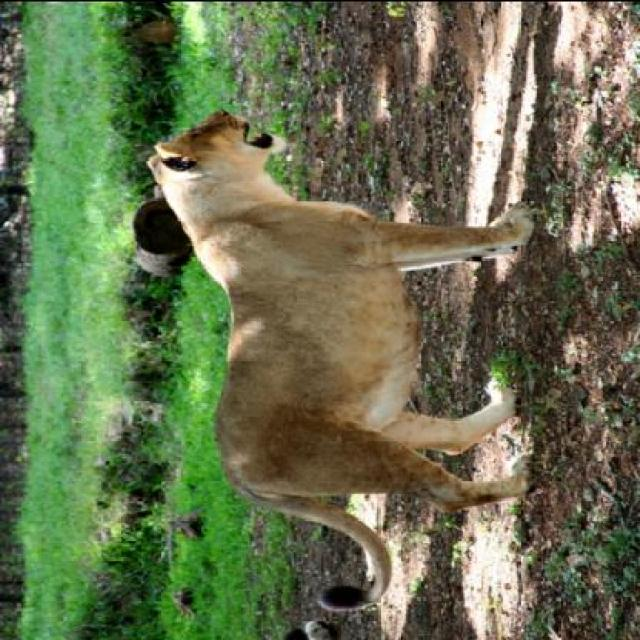Lion: (131, 110, 571, 622)
